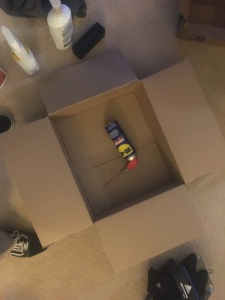innerbox: (59, 89, 167, 208)
outerbox: (15, 71, 221, 250), (106, 120, 138, 171)
